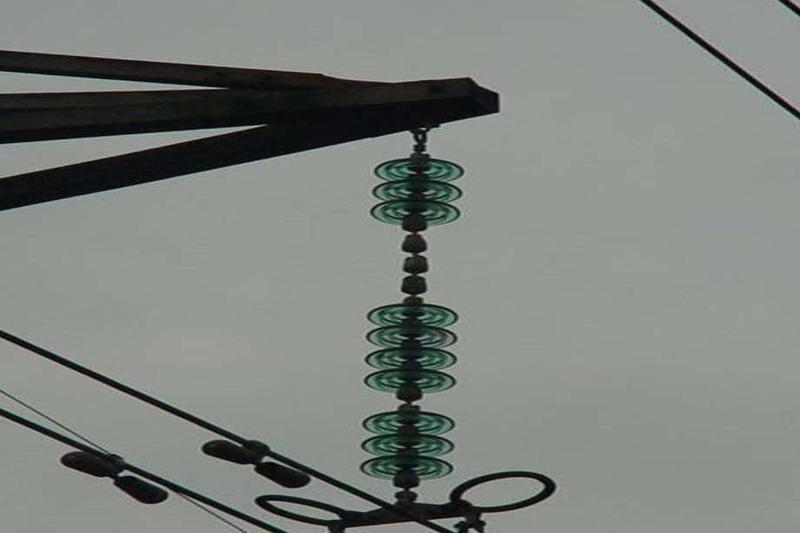gap: (363, 199, 461, 328), (360, 367, 457, 436)
isolator: (358, 155, 465, 481)
